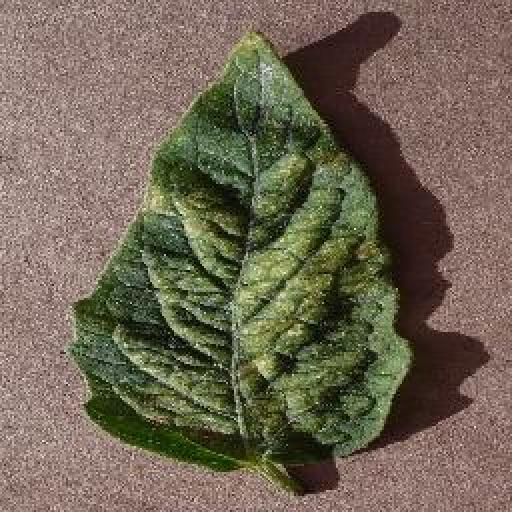disease_tomato: (63, 24, 410, 472)
